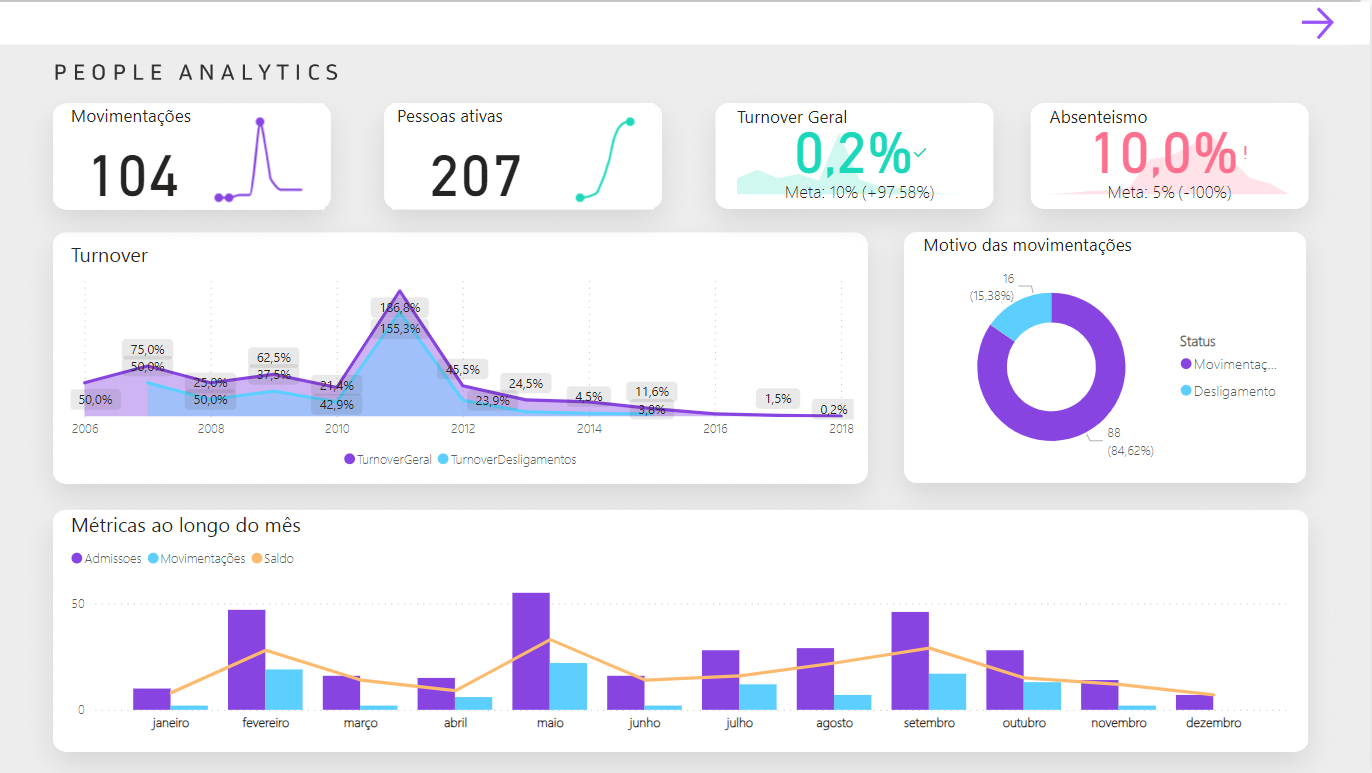

What the dashboard file says about the page in this screenshot:
{"tool":"powerbi","page":{"name":"Relatório","canvas":[1280,720],"ordinal":0},"visuals":[{"type":"donutChart","title":"Motivo das movimentações","fields":{"Category":["Tb_contratacoes.Status"],"Y":["CountNonNull(Tb_contratacoes.Status)"]},"box":[857.5,214.7,352.2,230.4],"z":0},{"type":"card","title":"Movimentações","fields":{"Values":["Medidas.Movimentações"]},"box":[62.7,94.1,125.4,98.9],"z":1000},{"type":"card","title":"Pessoas ativas","fields":{"Values":["Medidas.ColaboradoresAtivos"]},"box":[367.4,94.3,156.8,98.9],"z":2000},{"type":"lineClusteredColumnComboChart","title":"Métricas ao longo do mês","fields":{"Y":["Medidas.Admissoes","Medidas.Movimentações"],"Y2":["Medidas.Saldo"],"Category":["Tb_contratacoes.DataContratacao.Variation.Hierarquia de datas.Mês"]},"box":[62.7,474,1146.9,215.9],"z":3000},{"type":"areaChart","title":"Turnover","fields":{"Category":["Tb_contratacoes.DataContratacao.Variation.Hierarquia de datas.Ano"],"Y":["Medidas.TurnoverGeral","Medidas.TurnoverDesligamentos"]},"box":[62.7,223.1,740.5,221.9],"z":4000},{"type":"kpi","title":"Absenteismo","fields":{"Indicator":["Medidas.Absenteismo"],"TrendLine":["Tb_contratacoes.DataContratacao.Variation.Hierarquia de datas.Ano"],"Goal":["Medidas.MetaAbsenteismo"]},"box":[975.7,95.3,234,89.2],"z":5000},{"type":"kpi","title":"Turnover Geral ","fields":{"TrendLine":["Tb_contratacoes.DataContratacao.Variation.Hierarquia de datas.Ano"],"Indicator":["Medidas.TurnoverGeral"],"Goal":["Medidas.MetaTurnoverGeral"]},"box":[683.8,95.3,238.8,89.2],"z":6000},{"type":"PBI_CV_25997FEB_F466_44FA_B562_AC4063283C4C","fields":{"measure":["Medidas.ColaboradoresAtivos"],"axis":["Tb_contratacoes.DataContratacao.Variation.Hierarquia de datas.Ano"]},"box":[524.1,94.3,86.8,98.9],"z":7000},{"type":"PBI_CV_25997FEB_F466_44FA_B562_AC4063283C4C","fields":{"measure":["Medidas.Movimentações"],"axis":["Tb_contratacoes.DataContratacao.Variation.Hierarquia de datas.Ano"]},"box":[188.1,94.3,117,98.9],"z":7001},{"type":"actionButton","box":[1209.6,0,47,39.8],"z":7002}]}

Visuals, with their boxes in screenshot pixels (x1, y1, x2, y2), scaled from the page's 1280x720 canvas onto the 1372x773 screenshot:
"Motivo das movimentações" donutChart: [919, 231, 1297, 478]
"Movimentações" card: [67, 101, 202, 207]
"Pessoas ativas" card: [394, 101, 562, 207]
"Métricas ao longo do mês" lineClusteredColumnComboChart: [67, 509, 1297, 741]
"Turnover" areaChart: [67, 240, 861, 478]
"Absenteismo" kpi: [1046, 102, 1297, 198]
"Turnover Geral " kpi: [733, 102, 989, 198]
PBI_CV_25997FEB_F466_44FA_B562_AC4063283C4C - Medidas.ColaboradoresAtivos x Tb_contratacoes.DataContratacao.Variation.Hierarquia de datas.Ano: [562, 101, 655, 207]
PBI_CV_25997FEB_F466_44FA_B562_AC4063283C4C - Medidas.Movimentações x Tb_contratacoes.DataContratacao.Variation.Hierarquia de datas.Ano: [202, 101, 327, 207]
actionButton: [1297, 0, 1347, 43]
